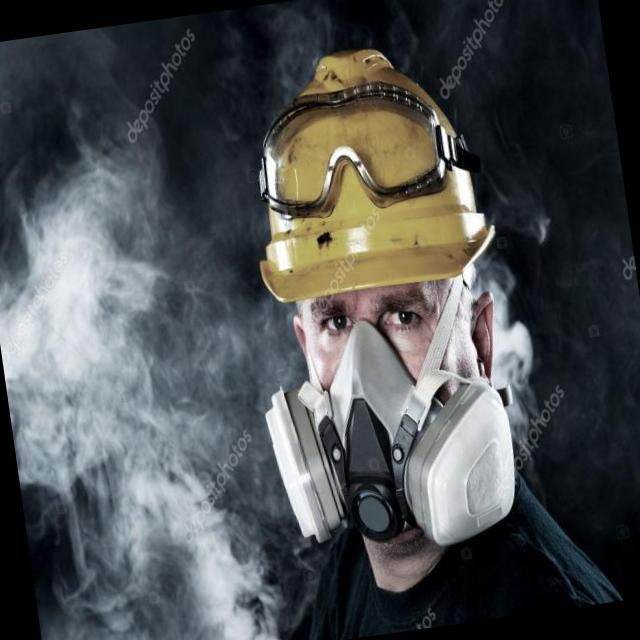Helmet: (196, 30, 548, 318)
